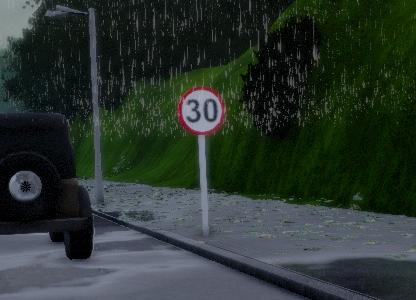Speed_30: (175, 85, 228, 138)
